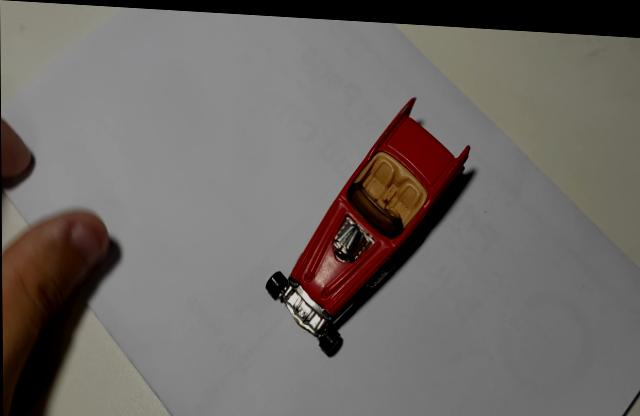03_V8: (265, 95, 478, 354)
